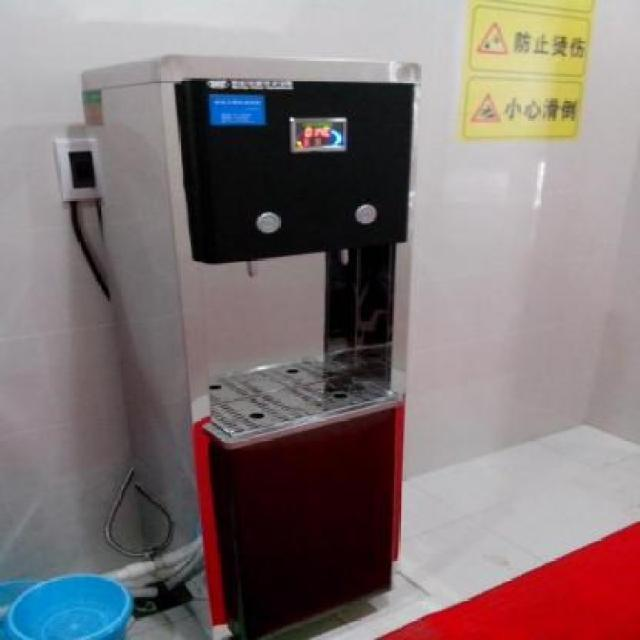cooler: (84, 52, 426, 640)
